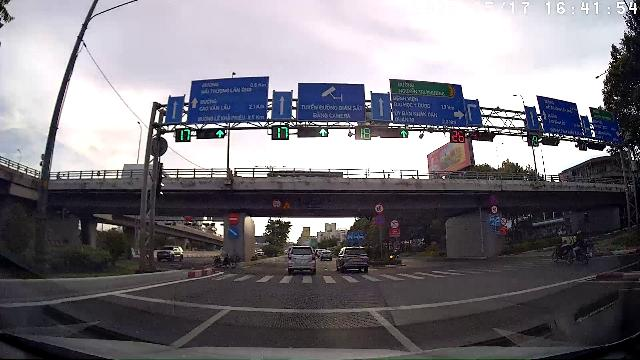127-toc-do-toi-da-50: (491, 205, 498, 214)
127-toc-do-toi-da-60: (374, 203, 385, 214)
